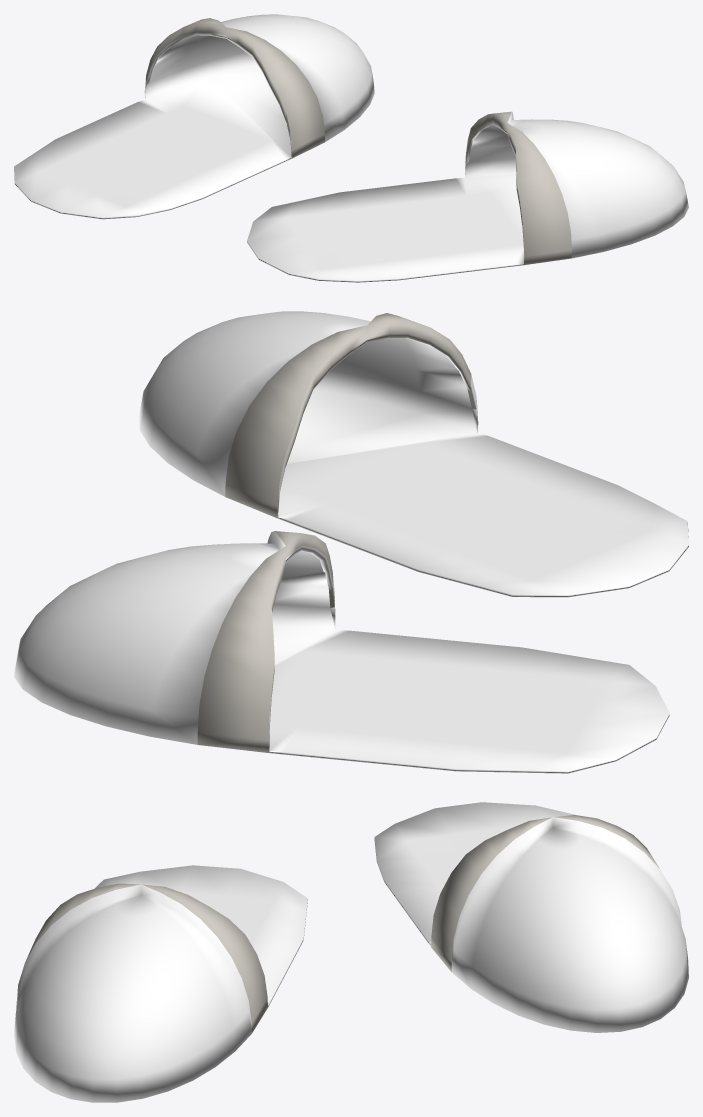
Rendered from Slippers.fbx.
3 views of the same model, one above another, from view 1: azimuth 30°, elevation 25°; view 2: azimuth 150°, elevation 25°; view 3: azimuth 270°, elevation 25° (orthographic). The views are drawn at different scales.
Parts seen in each view (by area): view 1: Sphere.001; view 2: Sphere.001; view 3: Sphere.001.
Part boxes in pixels (<box>): Sphere.001: <box>14,14,688,282</box>; Sphere.001: <box>14,311,688,773</box>; Sphere.001: <box>14,802,688,1102</box>.
Size of the model in its own units: 718 by 141 by 690.
